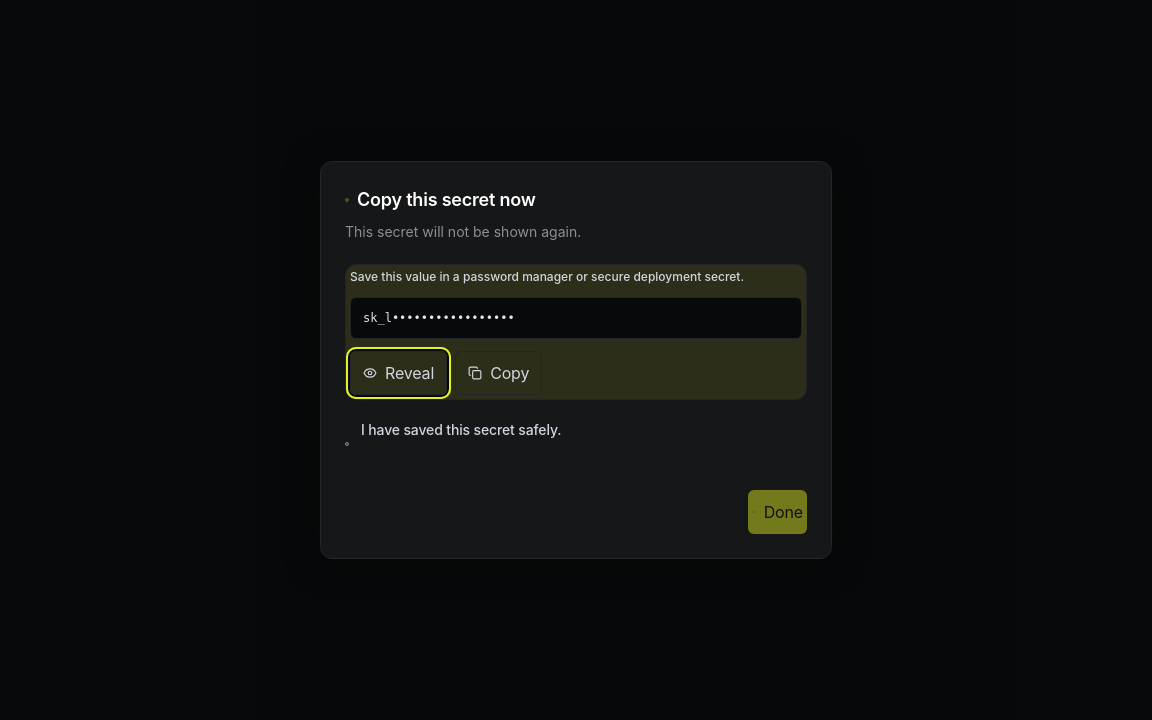
one-time secret dialog › masks the value until the user reveals it
The width and height of the screenshot is (1152, 720).
Expected: the text with test id "one-time-secret" does not show "sk_live_123456789", [350,297,802,339]
What coordinates should you click on to do the following:
click the button "Reveal"
I would click on:
 (399, 373)
Its box is [350,351,447,395].
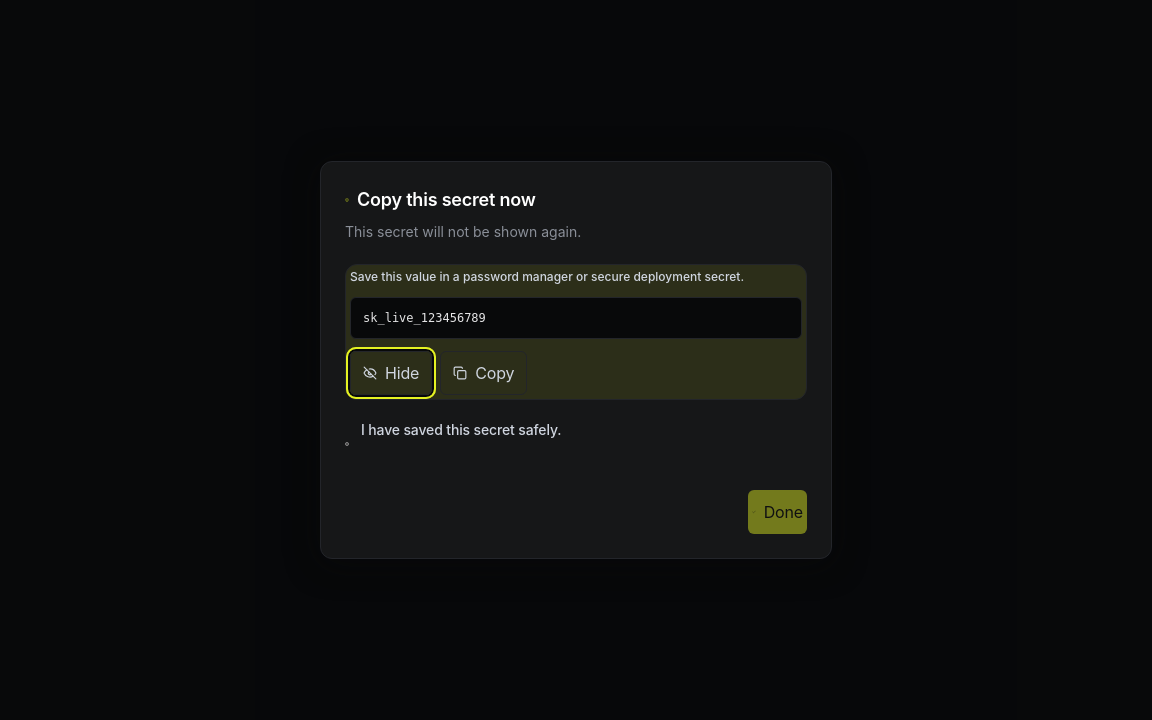
Expected: the text with test id "one-time-secret" reads "sk_live_123456789", [363,311,486,325]
